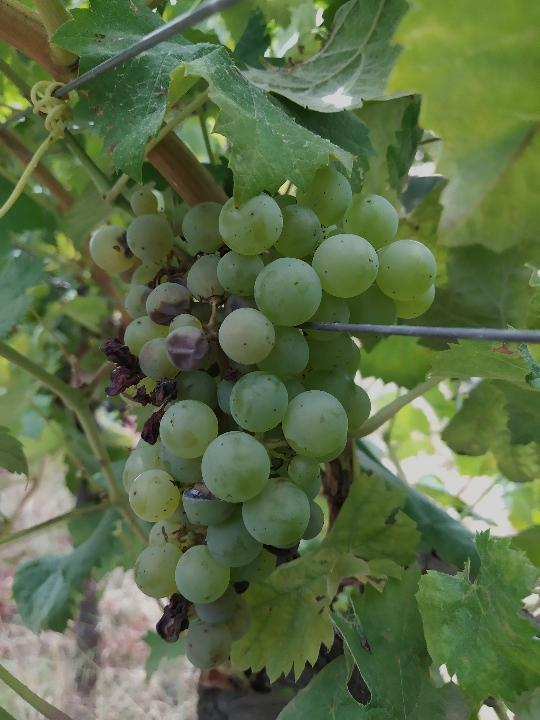grape: (87, 162, 440, 672)
